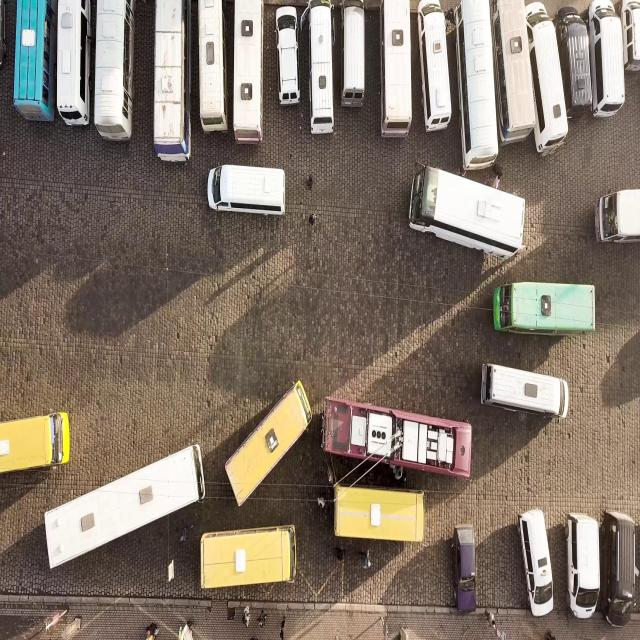Bus: (44, 446, 208, 571), (222, 381, 314, 508), (332, 394, 462, 483), (413, 164, 522, 260), (485, 276, 611, 338), (454, 2, 498, 172), (489, 2, 537, 149), (524, 3, 570, 152), (200, 527, 298, 591), (93, 2, 135, 145), (152, 1, 188, 161), (12, 2, 57, 124), (333, 486, 424, 544), (482, 363, 572, 416), (0, 413, 71, 479), (56, 2, 93, 127), (554, 5, 592, 122), (587, 2, 625, 118), (232, 2, 262, 144), (416, 3, 448, 134), (198, 1, 228, 138), (380, 2, 410, 138), (208, 165, 285, 216), (306, 2, 334, 135), (339, 0, 365, 110), (594, 189, 640, 245), (275, 6, 300, 106), (620, 0, 640, 68), (0, 0, 7, 66)
Car: (451, 512, 486, 628), (603, 512, 638, 626), (517, 510, 554, 616), (565, 512, 600, 620)
